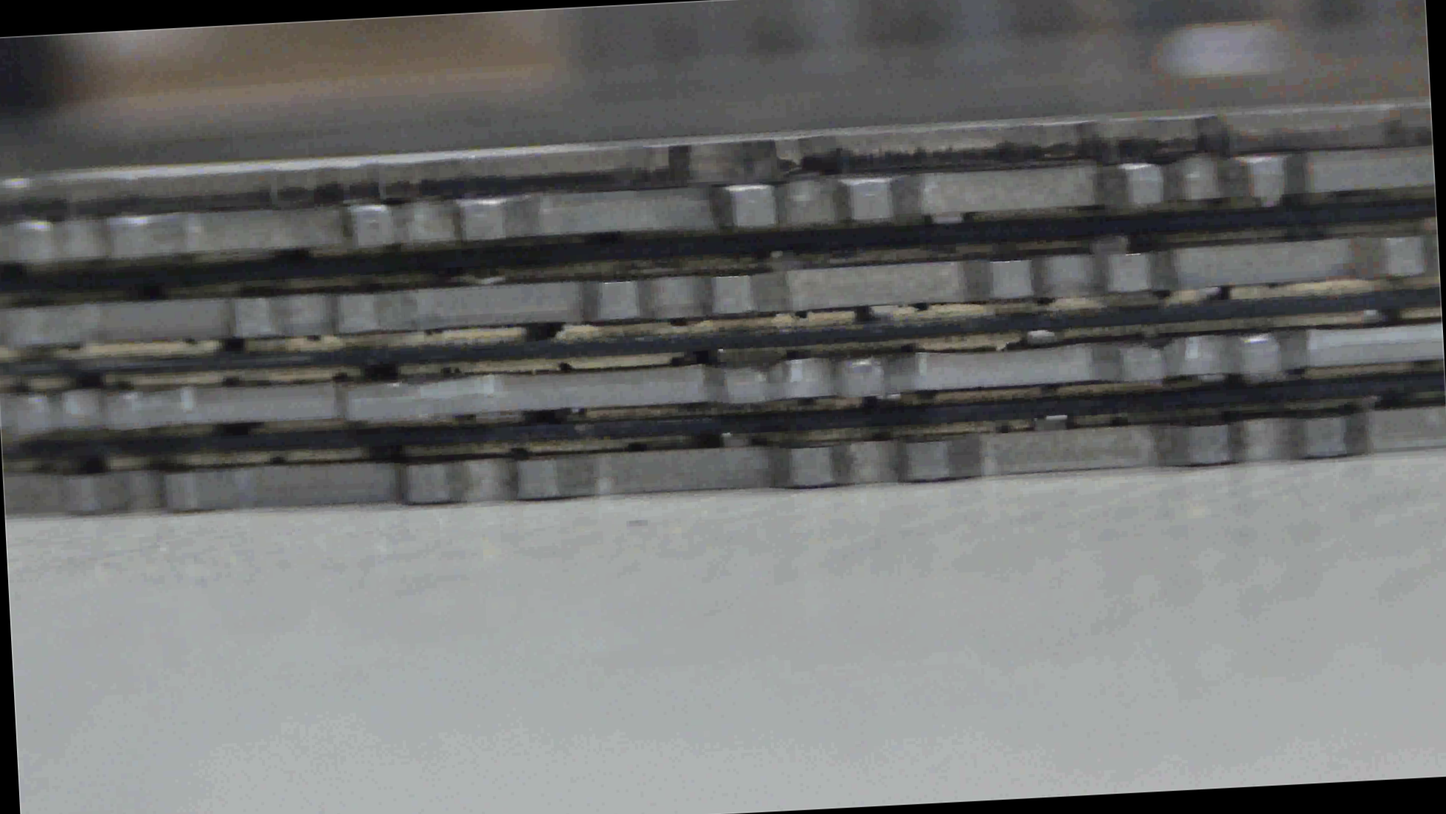Black metal plate: (0, 68, 1412, 260), (3, 407, 1446, 516)
shiney metal plate: (0, 181, 1445, 234), (0, 357, 1445, 408), (0, 269, 1441, 318)
spacer: (0, 404, 1445, 437), (0, 232, 1445, 260), (2, 325, 1445, 351)
